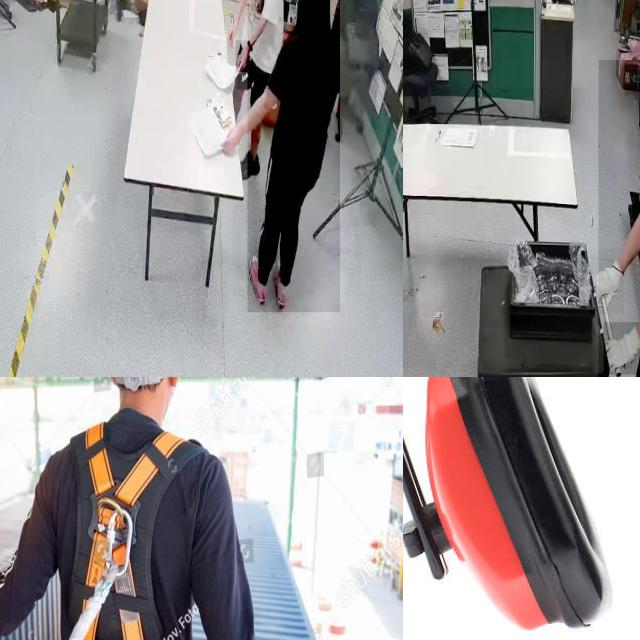Ear-protection: (403, 377, 640, 640)
Harness: (70, 423, 202, 640)
hand_glove: (590, 250, 624, 314), (603, 322, 640, 375)
hand_noglove: (221, 122, 241, 158), (236, 40, 250, 73), (226, 15, 238, 48)
person: (247, 0, 340, 313), (222, 0, 277, 181)
shoes: (247, 247, 268, 309), (272, 252, 292, 317)
